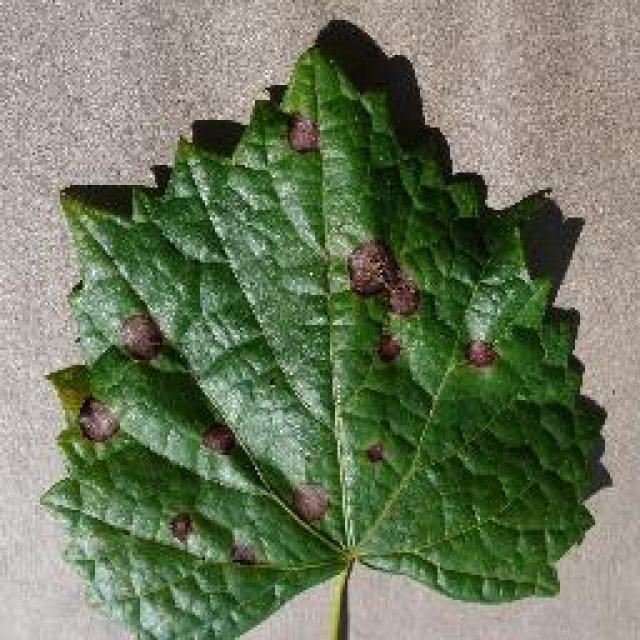Grape___Black_rot: (32, 41, 617, 638)
